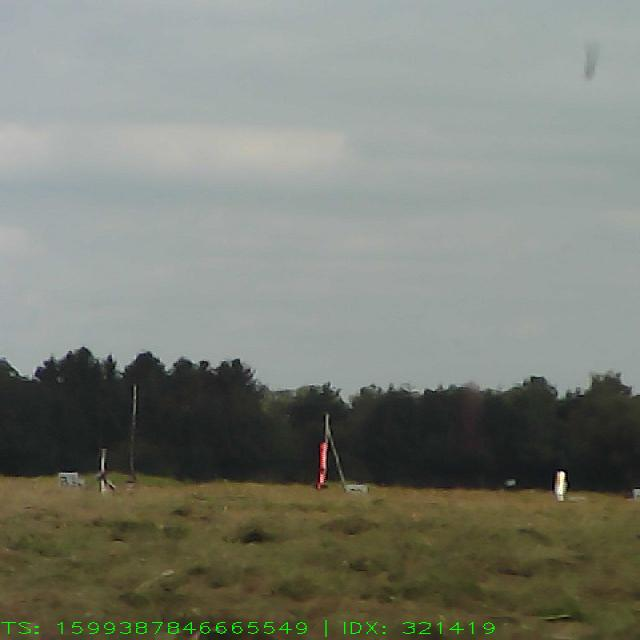Rocket: (313, 442, 330, 491)
